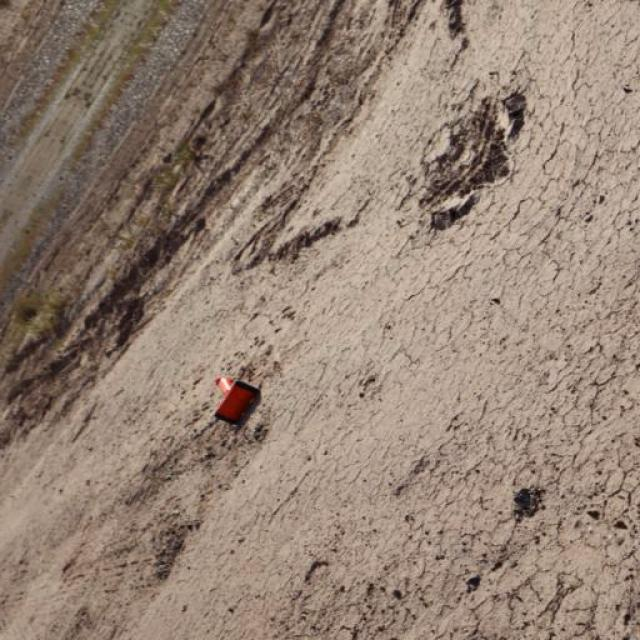mallet: (212, 374, 262, 424)
